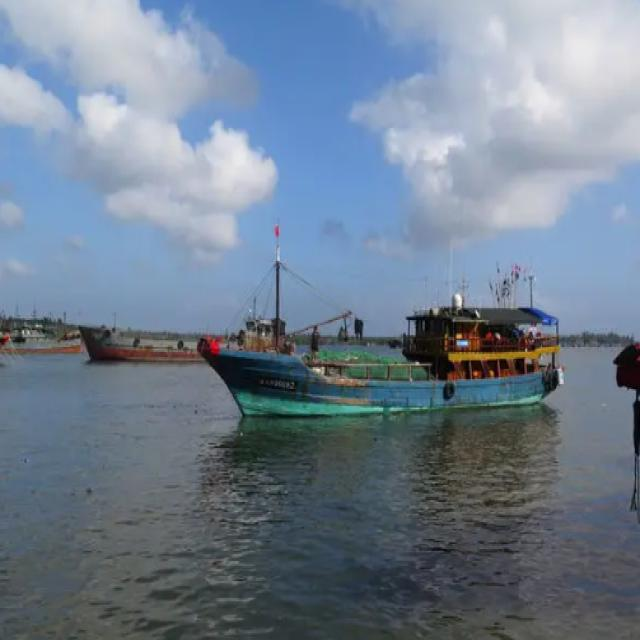fishing boat: (198, 234, 562, 413), (76, 310, 254, 366)
